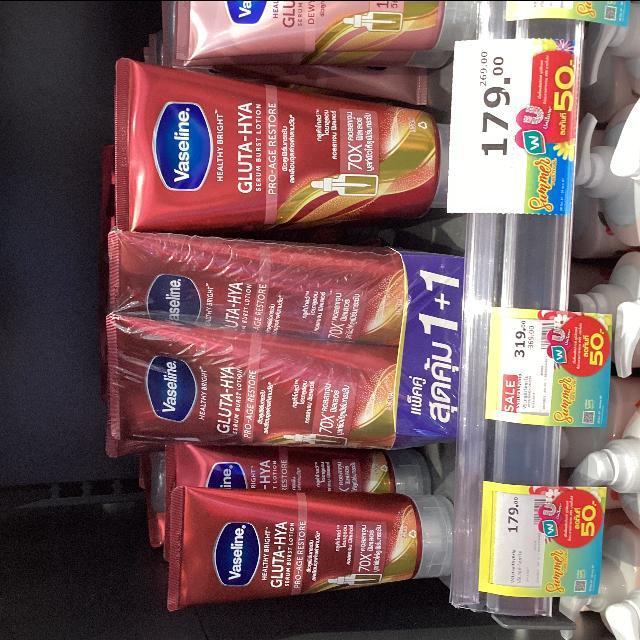Squeeze Tube: (81, 46, 501, 588)
